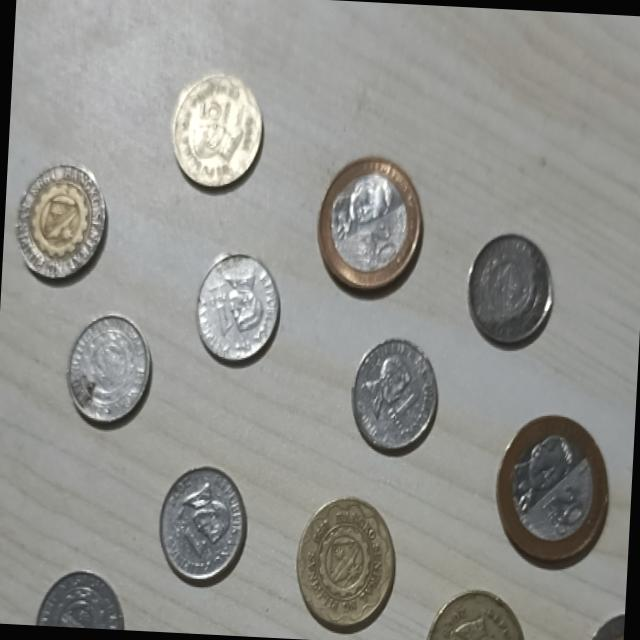10_peso: (16, 164, 105, 277)
1_peso: (160, 466, 244, 583), (353, 340, 437, 451), (67, 316, 149, 422), (470, 237, 550, 342), (199, 255, 278, 361), (37, 572, 122, 628)
20_peso: (496, 419, 608, 566), (318, 156, 420, 287)
5_peso: (296, 499, 395, 628), (174, 74, 262, 186), (427, 591, 521, 640)
